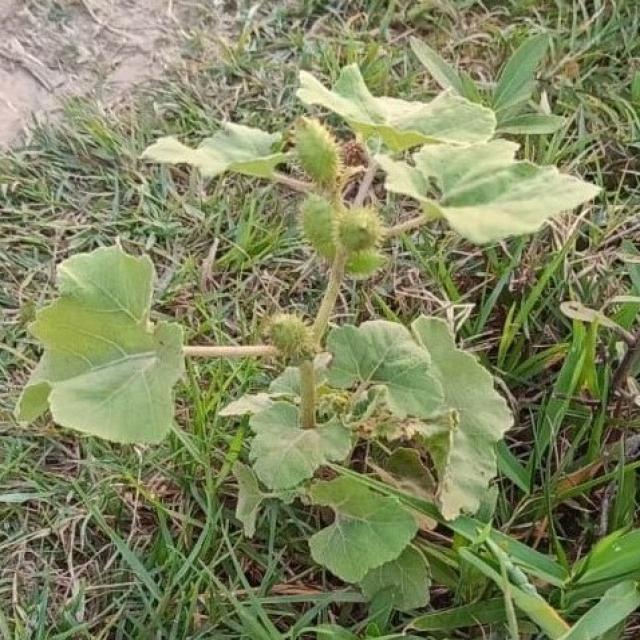weed: (224, 117, 514, 610), (300, 35, 601, 244), (16, 247, 265, 444), (143, 124, 292, 178)
